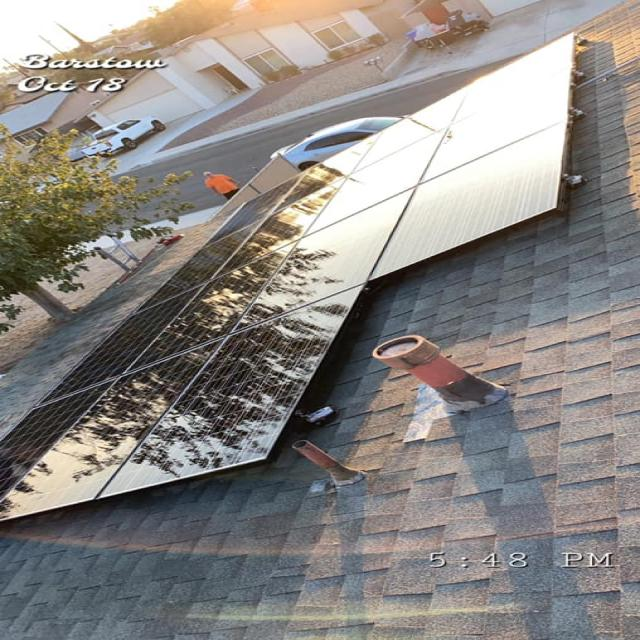clean-solar-panel: (0, 34, 576, 519)
